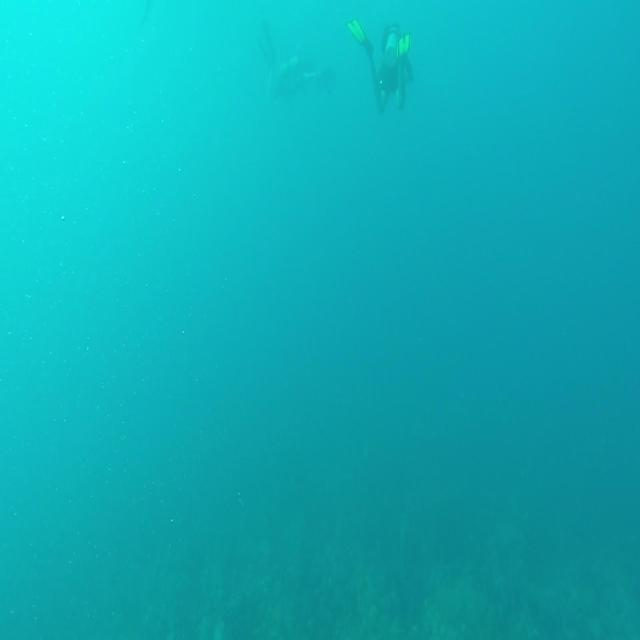human: (346, 16, 414, 114), (258, 20, 334, 101)
